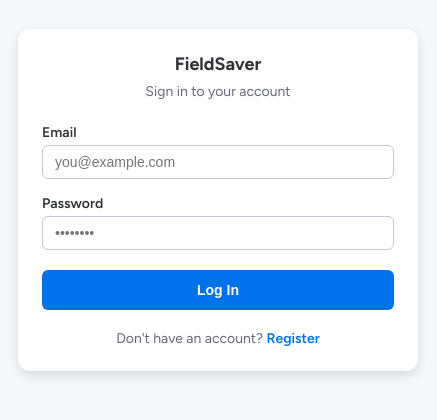
Test: LoginPage › should show error when password is empty on submit
Type "user@example.com" into the field with placeholder "you@example.com" at (218, 162), box [42, 145, 394, 179]
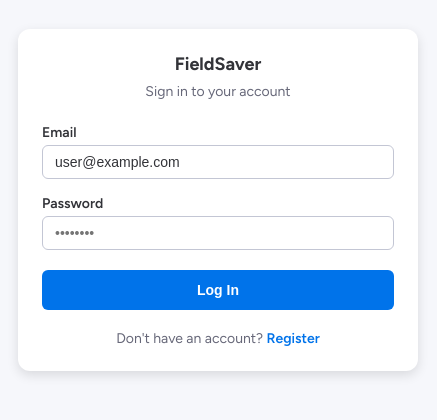
Click the button "Log In" at (218, 290), box [42, 270, 394, 310]
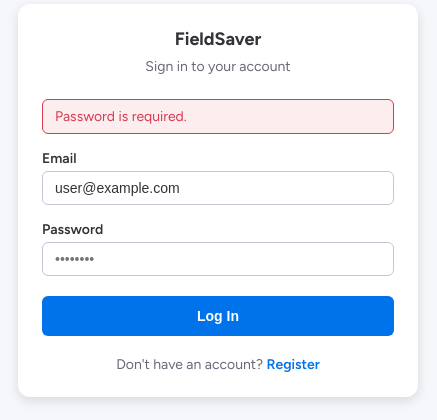
Expected: the text "Password is required." is shown, [42, 98, 394, 134]
